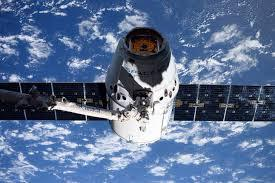body: (100, 23, 181, 145)
solar: (0, 80, 112, 124), (173, 82, 275, 124)
